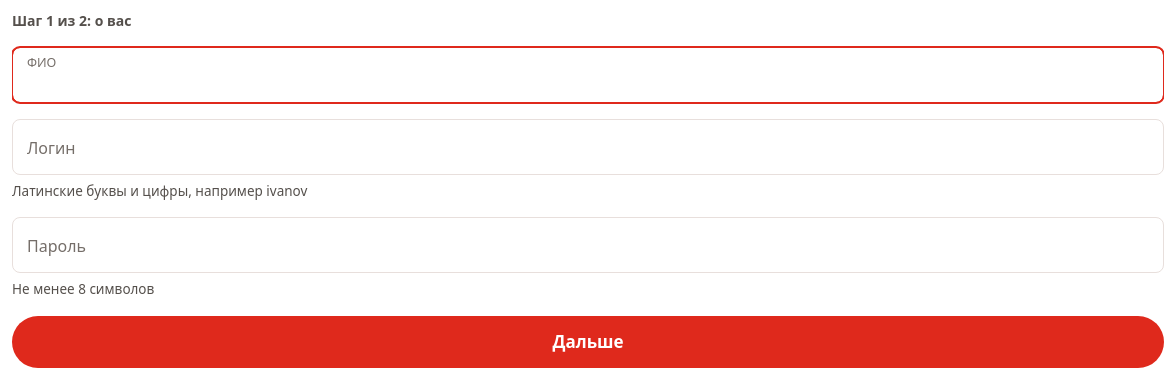
Test: Register › shows the company found by INN and keeps the button off until consent is given
The image size is (1176, 385).
Type "Иванов Иван Иванович" into the field labelled "ФИО".
click(588, 75); type("Иванов Иван Иванович")  # box [12,47,1164,103]
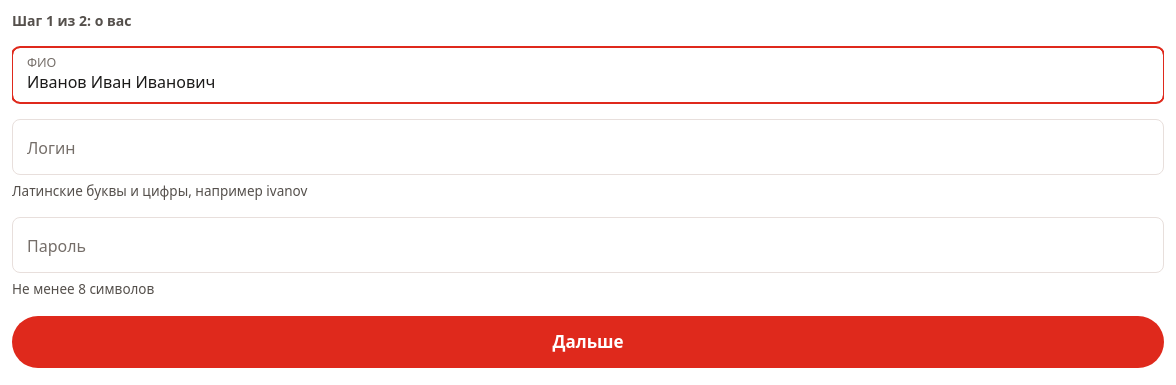
Type "ivanov" into the field labelled "Логин".
click(588, 147); type("ivanov")  # box [12,119,1164,175]
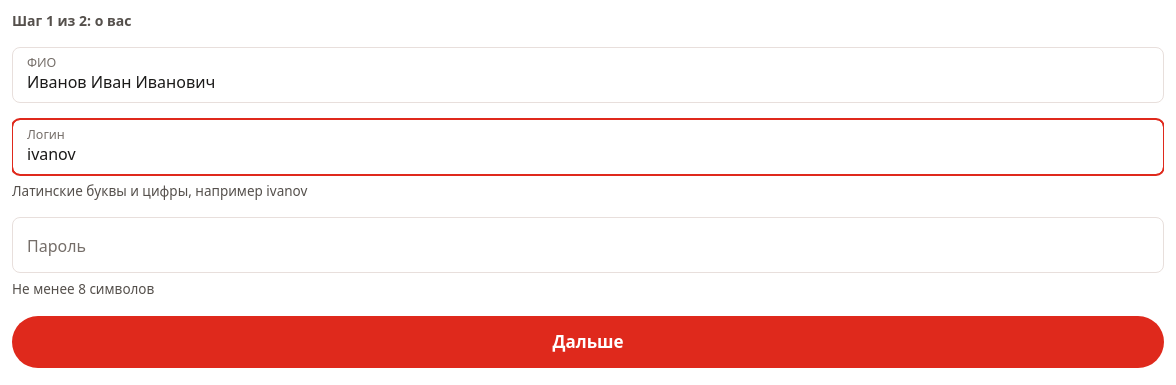
Type "long-enough-1" into the password field labelled "Пароль".
click(588, 245); type("long-enough-1")  # box [12,217,1164,273]
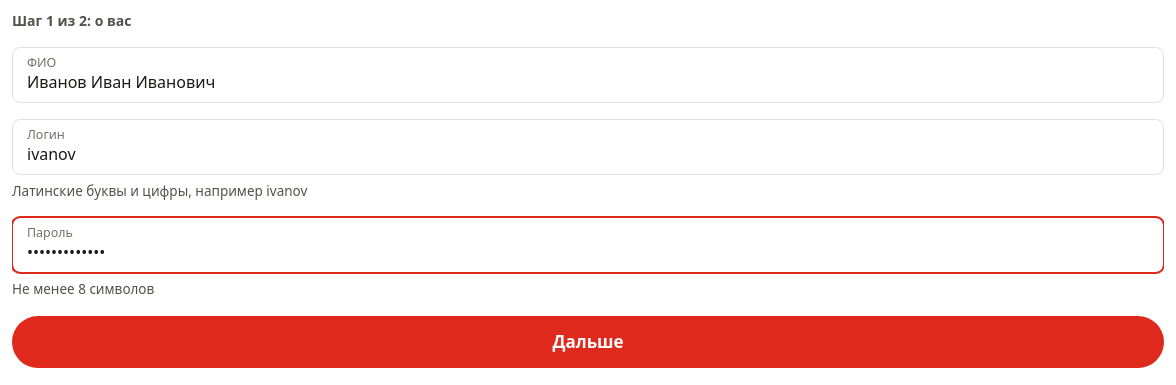
Click the button "Дальше".
click(588, 342)  # box [12,316,1164,368]
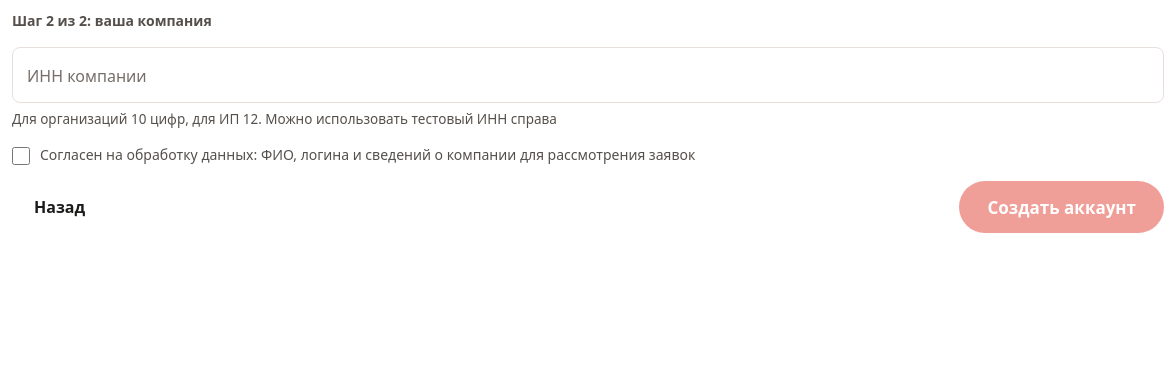
Type "7700000016" into the field labelled "ИНН компании".
click(588, 75); type("7700000016")  # box [12,47,1164,103]
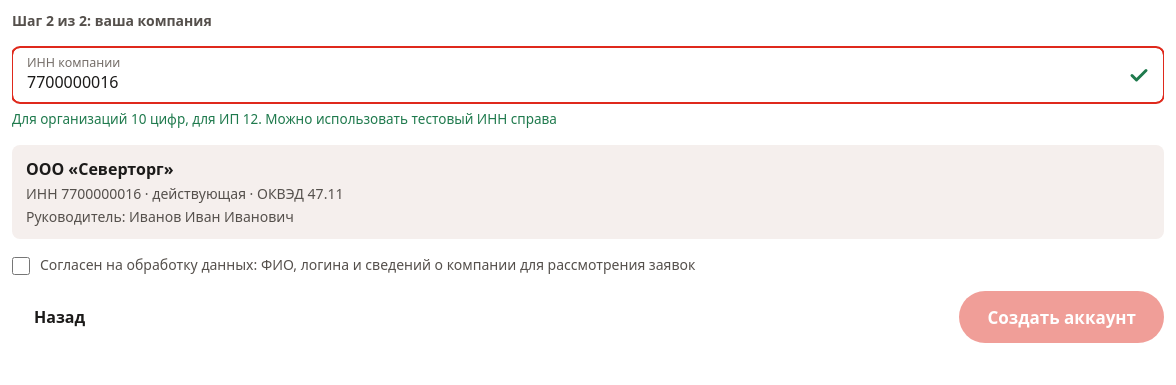
Now the button "Создать аккаунт" is disabled, box [960,291,1164,343]
Now the text "ООО «Северторг»" is shown, box [26,158,174,180]
Click the checkbox labelled "Согласен на обработку данных".
click(21, 266)  # box [12,257,30,275]
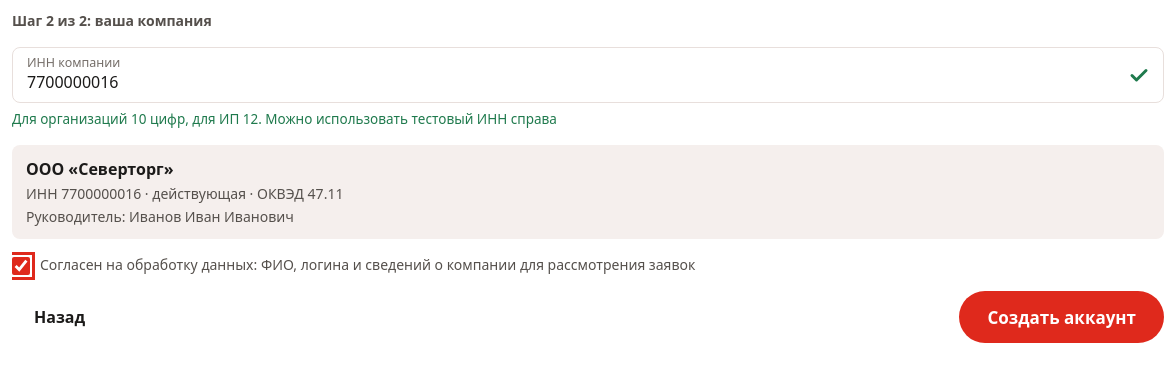
Now the button "Создать аккаунт" is enabled, box [960,291,1164,343]
